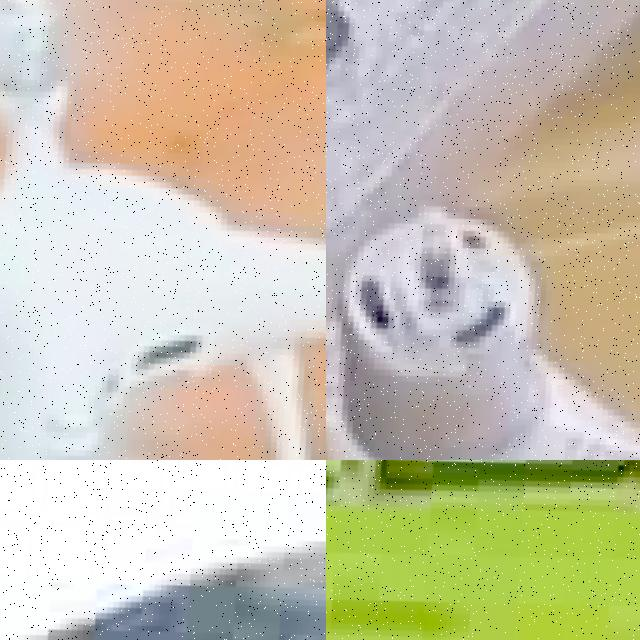drone: (0, 0, 326, 460), (326, 0, 640, 460), (0, 460, 326, 640), (326, 460, 640, 640)
